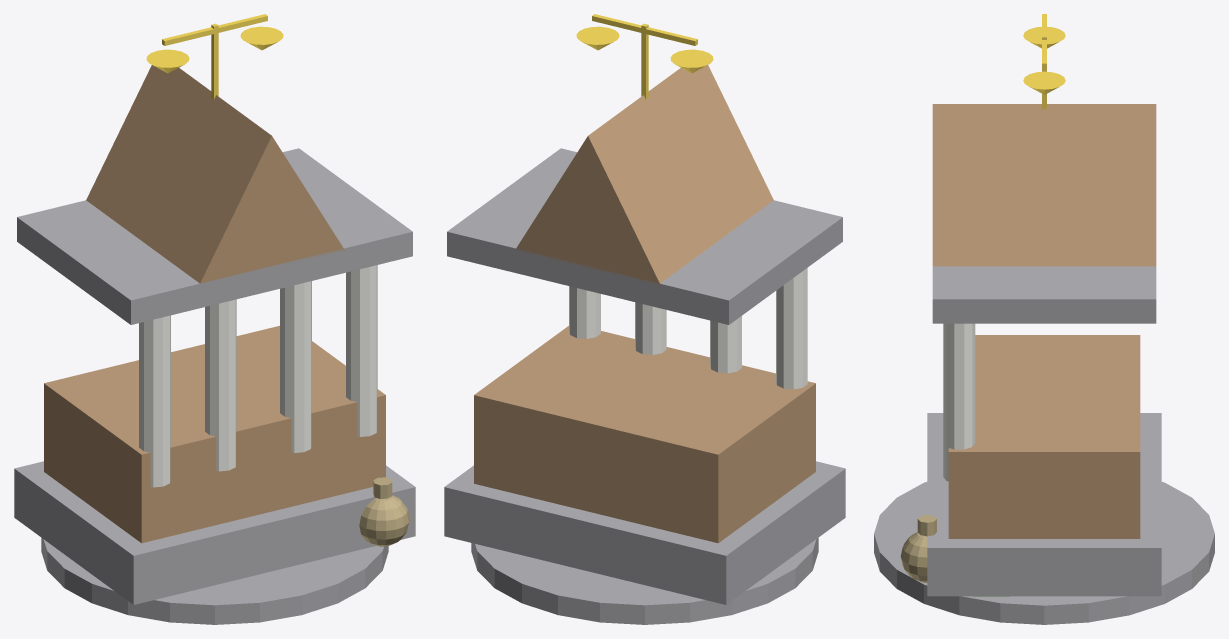
File: Tribunal_L1.fbx
3 views of the same model, side by side, from view 1: azimuth 30°, elevation 25°; view 2: azimuth 150°, elevation 25°; view 3: azimuth 270°, elevation 25° (orthographic).
Parts seen in each view (by area): view 1: Tribunal_L1.001; view 2: Tribunal_L1.001; view 3: Tribunal_L1.001.
Part boxes in pixels (<box>): Tribunal_L1.001: <box>14,14,415,624</box>; Tribunal_L1.001: <box>444,14,845,624</box>; Tribunal_L1.001: <box>874,14,1214,624</box>.
Bounding box in the file's own units: 3.2 × 5.35 × 3.2.
